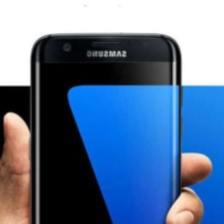phone: (26, 28, 185, 223)
